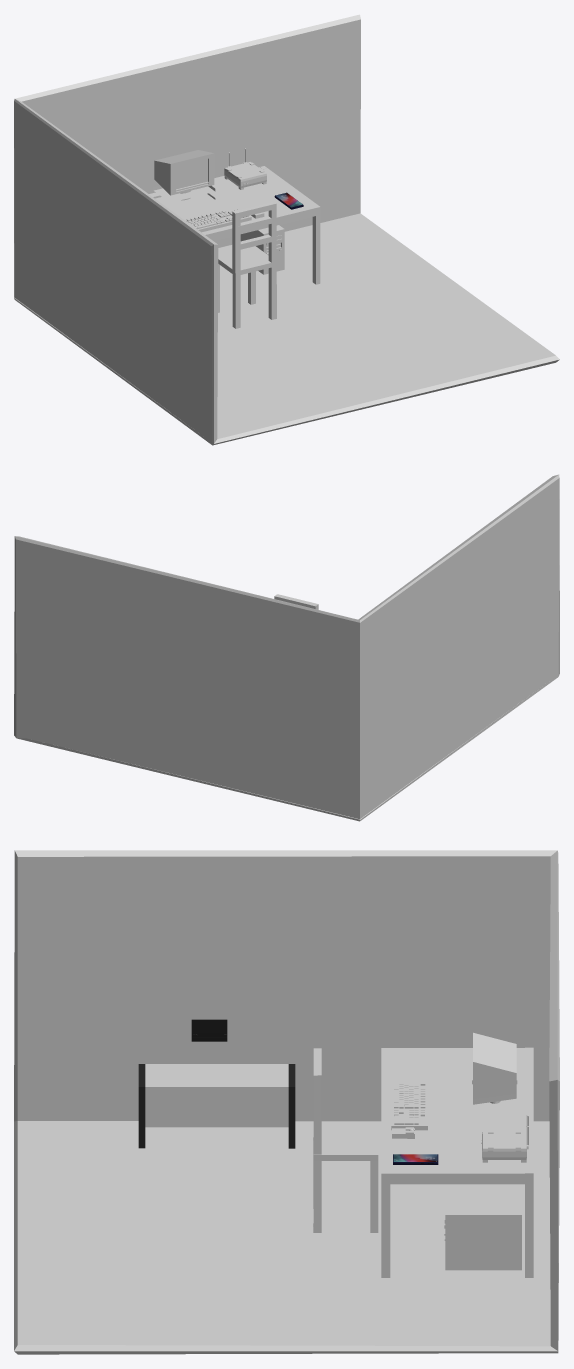
Rendered from Room.gltf.
3 renders of one model, top to bottom at view 1: azimuth 30°, elevation 25°; view 2: azimuth 150°, elevation 25°; view 3: azimuth 270°, elevation 25°, orthographic. The views are drawn at different scales.
Visible parts, largest first — view 1: Walls, Table, Chair, Cube.001, Router, Keyboard, Cube; view 2: Walls; view 3: Walls, Table, Cube.008, Cube, Chair, Cube.001, Keyboard, Router, Cube.009, Plane.006.
Boxes of the visible parts, <box> form: Walls: <box>14,14,559,445</box>; Table: <box>149,166,320,284</box>; Chair: <box>218,201,276,328</box>; Cube.001: <box>154,150,214,195</box>; Router: <box>224,148,266,189</box>; Keyboard: <box>185,207,251,232</box>; Cube: <box>240,225,284,274</box>; Walls: <box>14,474,559,821</box>; Walls: <box>14,850,559,1354</box>; Table: <box>381,1047,533,1277</box>; Cube.008: <box>145,1064,288,1127</box>; Cube: <box>444,1201,521,1270</box>; Chair: <box>313,1048,378,1232</box>; Cube.001: <box>473,1032,516,1104</box>; Keyboard: <box>391,1082,427,1130</box>; Router: <box>481,1115,528,1162</box>; Cube.009: <box>191,1019,227,1041</box>; Plane.006: <box>472,1080,517,1114</box>.
Size of the model in its own units: 7.87 by 4.4 by 7.87.
Materials: 9 (1 with a texture image).
